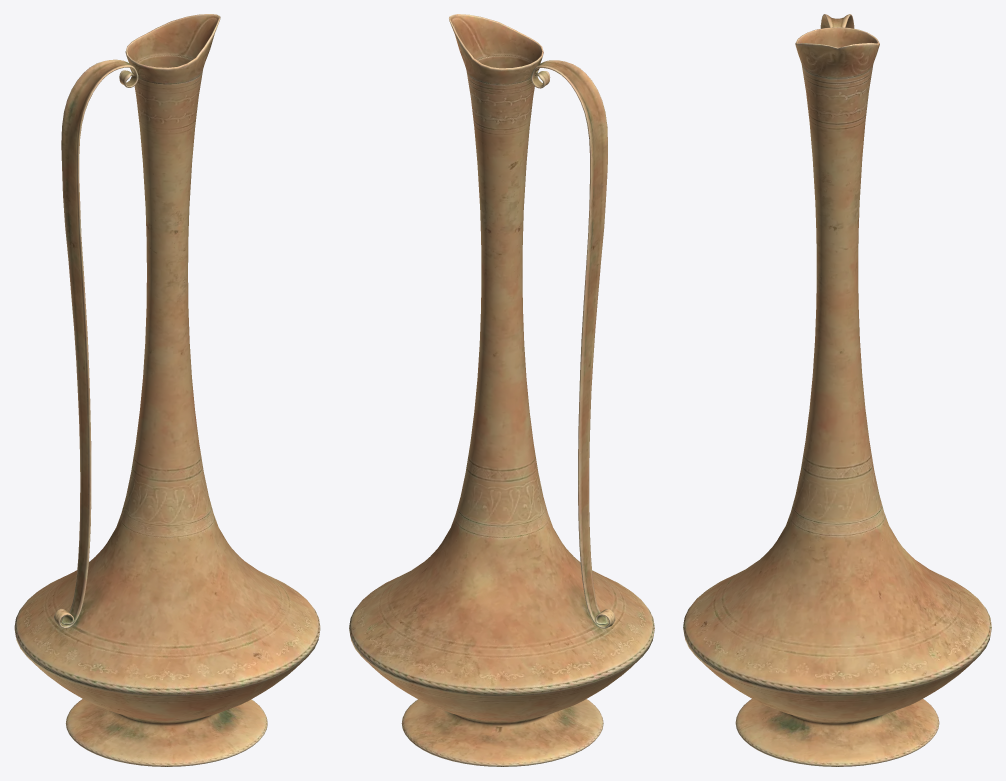
File: brass_vase_02.gltf
3 renders of one model, left to right at view 1: azimuth 30°, elevation 25°; view 2: azimuth 150°, elevation 25°; view 3: azimuth 270°, elevation 25°, orthographic.
Parts seen in each view (by area): view 1: brass_vase_02; view 2: brass_vase_02; view 3: brass_vase_02.
Boxes of the visible parts, x1,y1,x2,y2 form: brass_vase_02: (14,14,320,766); brass_vase_02: (349,14,654,766); brass_vase_02: (683,14,991,766).
Size of the model in its own units: 0.2103 by 0.5286 by 0.2103.
1 material, 1 textured.
